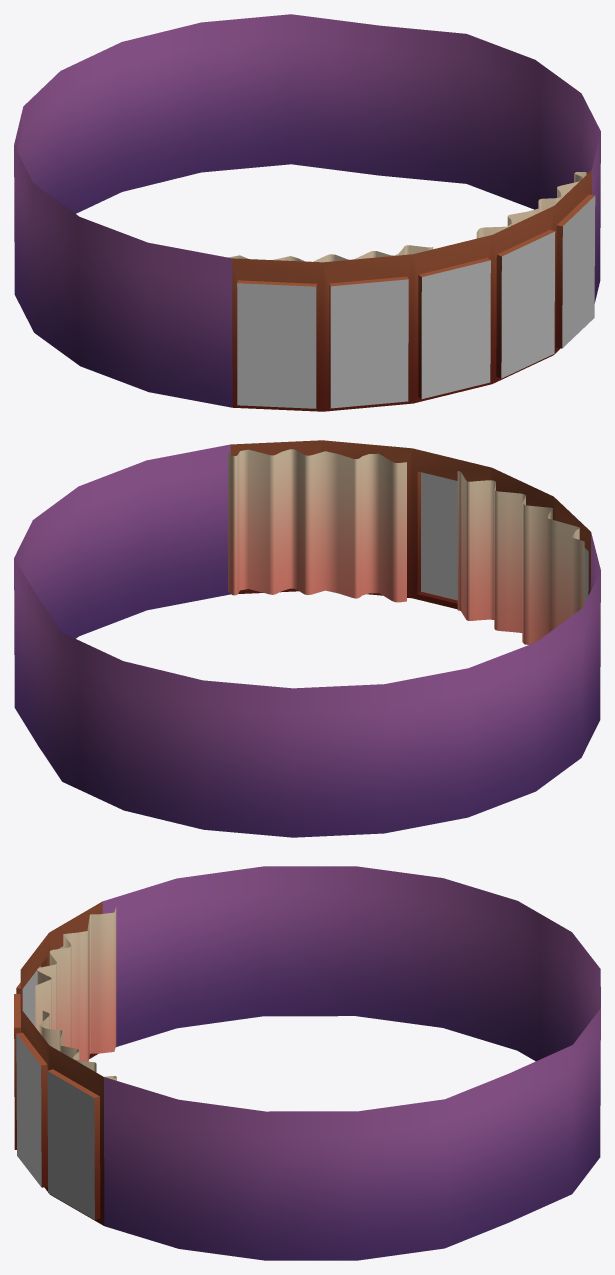
File: Wall.fbx
3 renders of one model, top to bottom at view 1: azimuth 30°, elevation 25°; view 2: azimuth 150°, elevation 25°; view 3: azimuth 270°, elevation 25°, orthographic.
Parts seen in each view (by area): view 1: Wall1, Windows, Curtains; view 2: Wall1, Curtains, Windows; view 3: Wall1, Curtains, Windows.
Part boxes in pixels (bbox=[...]): Wall1: bbox=[14, 14, 600, 411]; Windows: bbox=[237, 196, 595, 408]; Curtains: bbox=[228, 172, 586, 262]; Wall1: bbox=[14, 440, 600, 837]; Curtains: bbox=[228, 449, 584, 644]; Windows: bbox=[421, 472, 588, 602]; Wall1: bbox=[14, 866, 600, 1260]; Curtains: bbox=[35, 907, 116, 1080]; Windows: bbox=[16, 946, 94, 1219].
Bounding box in the file's own units: 1713 × 492 × 1733.
